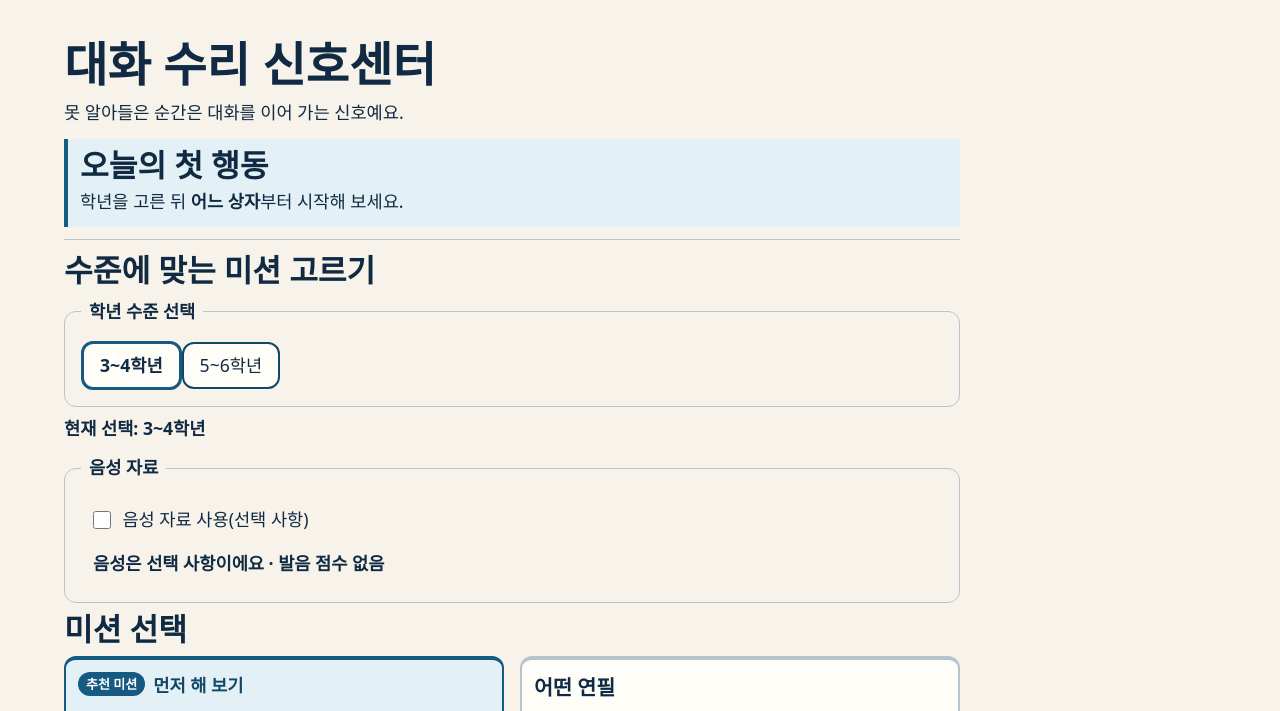
signal center › shows the five reviewed missions for each selected grade band
Click the button "5~6학년": (231, 366) [182,342,280,389]
(page scrolled)
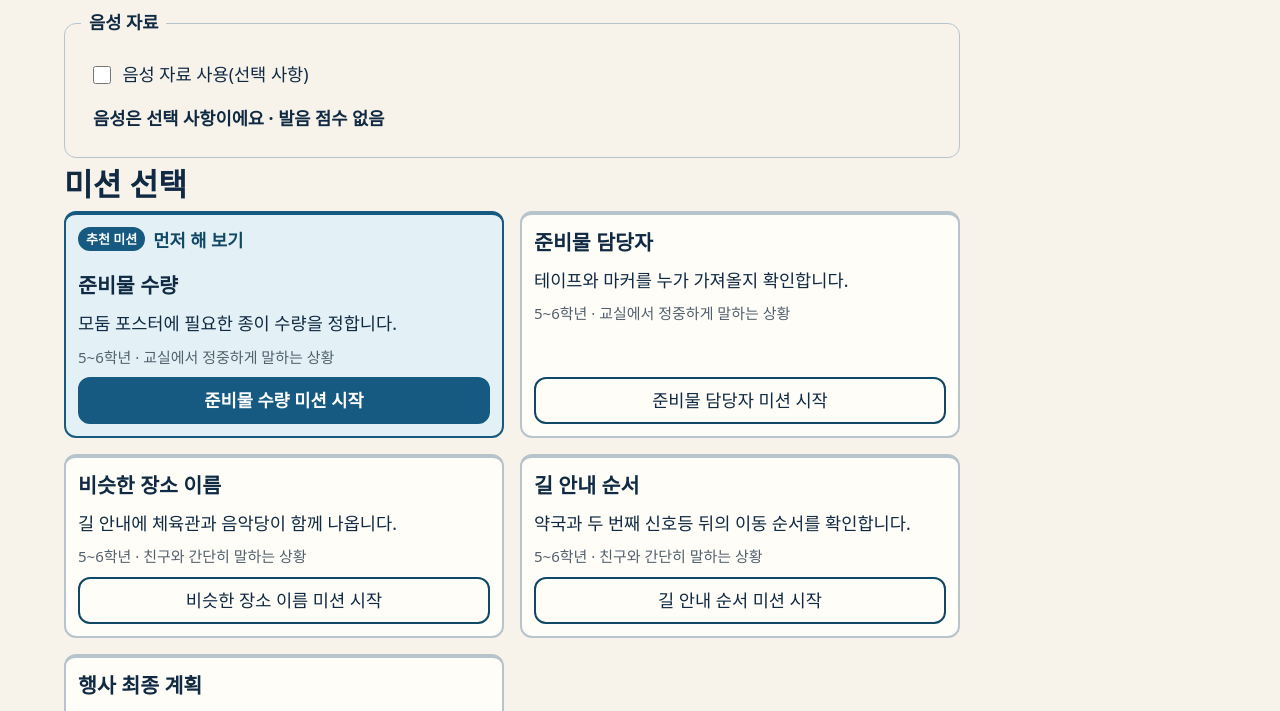
Expected: the button "준비물 수량 미션 시작" is shown, [78,377,490,424]
